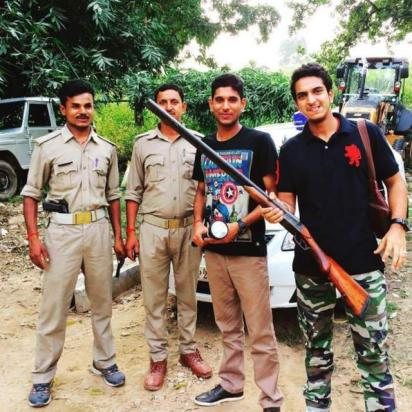Gun: (143, 97, 374, 321)
